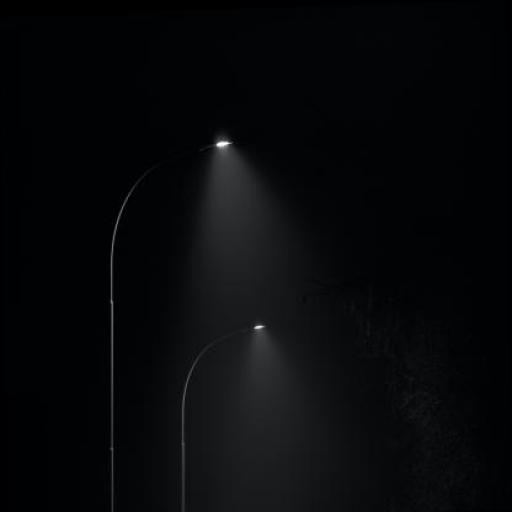street light: (108, 138, 232, 509), (181, 324, 267, 510)
